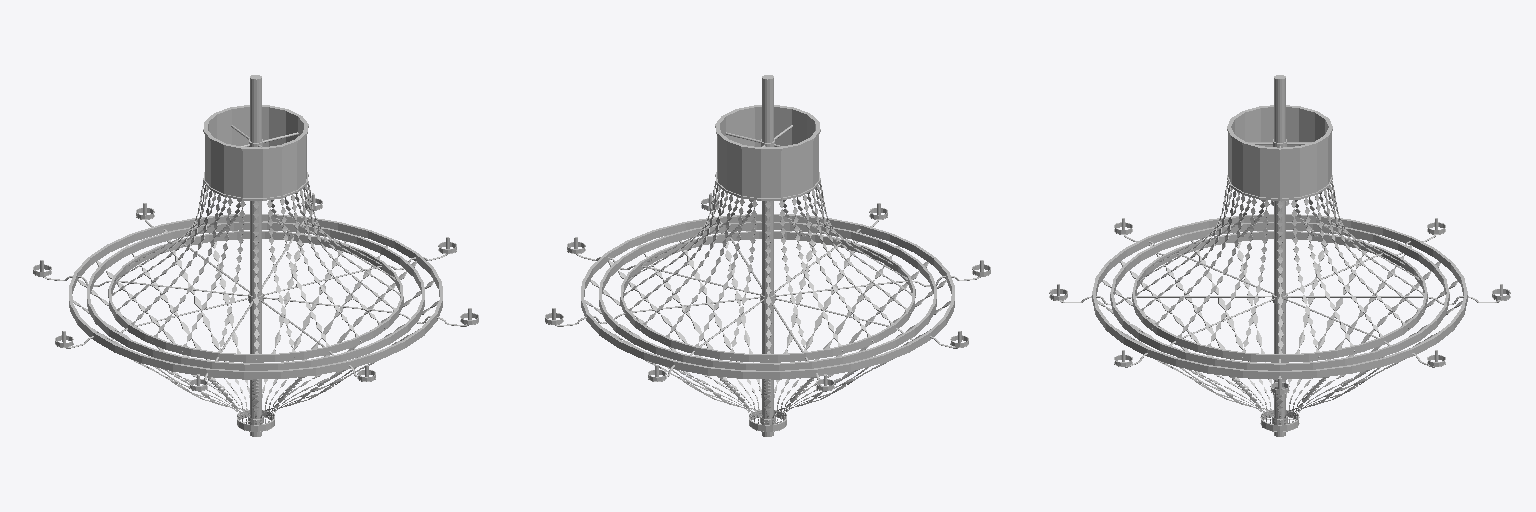
The model's file is Chandy.obj.
3 renders of one model, left to right at view 1: azimuth 30°, elevation 25°; view 2: azimuth 150°, elevation 25°; view 3: azimuth 270°, elevation 25°, orthographic.
Parts seen in each view (by area): view 1: BezierCurve.003_BezierCurve.004; view 2: BezierCurve.003_BezierCurve.004; view 3: BezierCurve.003_BezierCurve.004.
Boxes of the visible parts, box(x1,y1,x2,y2) form: BezierCurve.003_BezierCurve.004: box(33, 75, 478, 436); BezierCurve.003_BezierCurve.004: box(545, 75, 990, 436); BezierCurve.003_BezierCurve.004: box(1049, 75, 1510, 436).
Size of the model in its own units: 24.99 by 21.35 by 24.99.